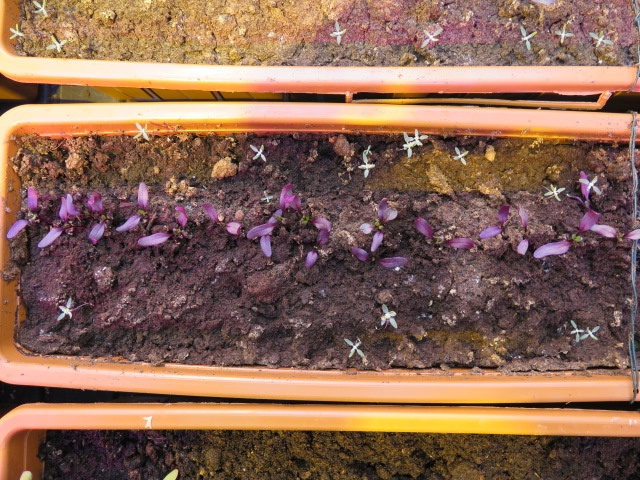crop: (281, 170, 334, 270), (532, 206, 602, 271), (244, 177, 296, 258), (412, 209, 473, 260), (6, 179, 49, 244), (135, 202, 190, 251), (39, 186, 77, 253), (361, 195, 401, 255), (115, 180, 151, 236), (348, 244, 409, 277), (576, 165, 600, 245), (202, 196, 243, 241), (480, 201, 514, 251), (86, 186, 107, 249), (515, 198, 533, 260), (589, 223, 640, 244)
weed: (587, 24, 615, 52), (326, 16, 349, 47), (341, 335, 367, 362), (418, 25, 445, 51), (377, 300, 399, 331), (517, 23, 539, 54), (553, 18, 575, 48), (541, 180, 567, 204), (55, 294, 75, 324), (43, 32, 68, 53), (248, 140, 268, 166), (450, 144, 472, 167), (131, 119, 150, 145), (8, 22, 26, 41), (259, 188, 274, 205)
